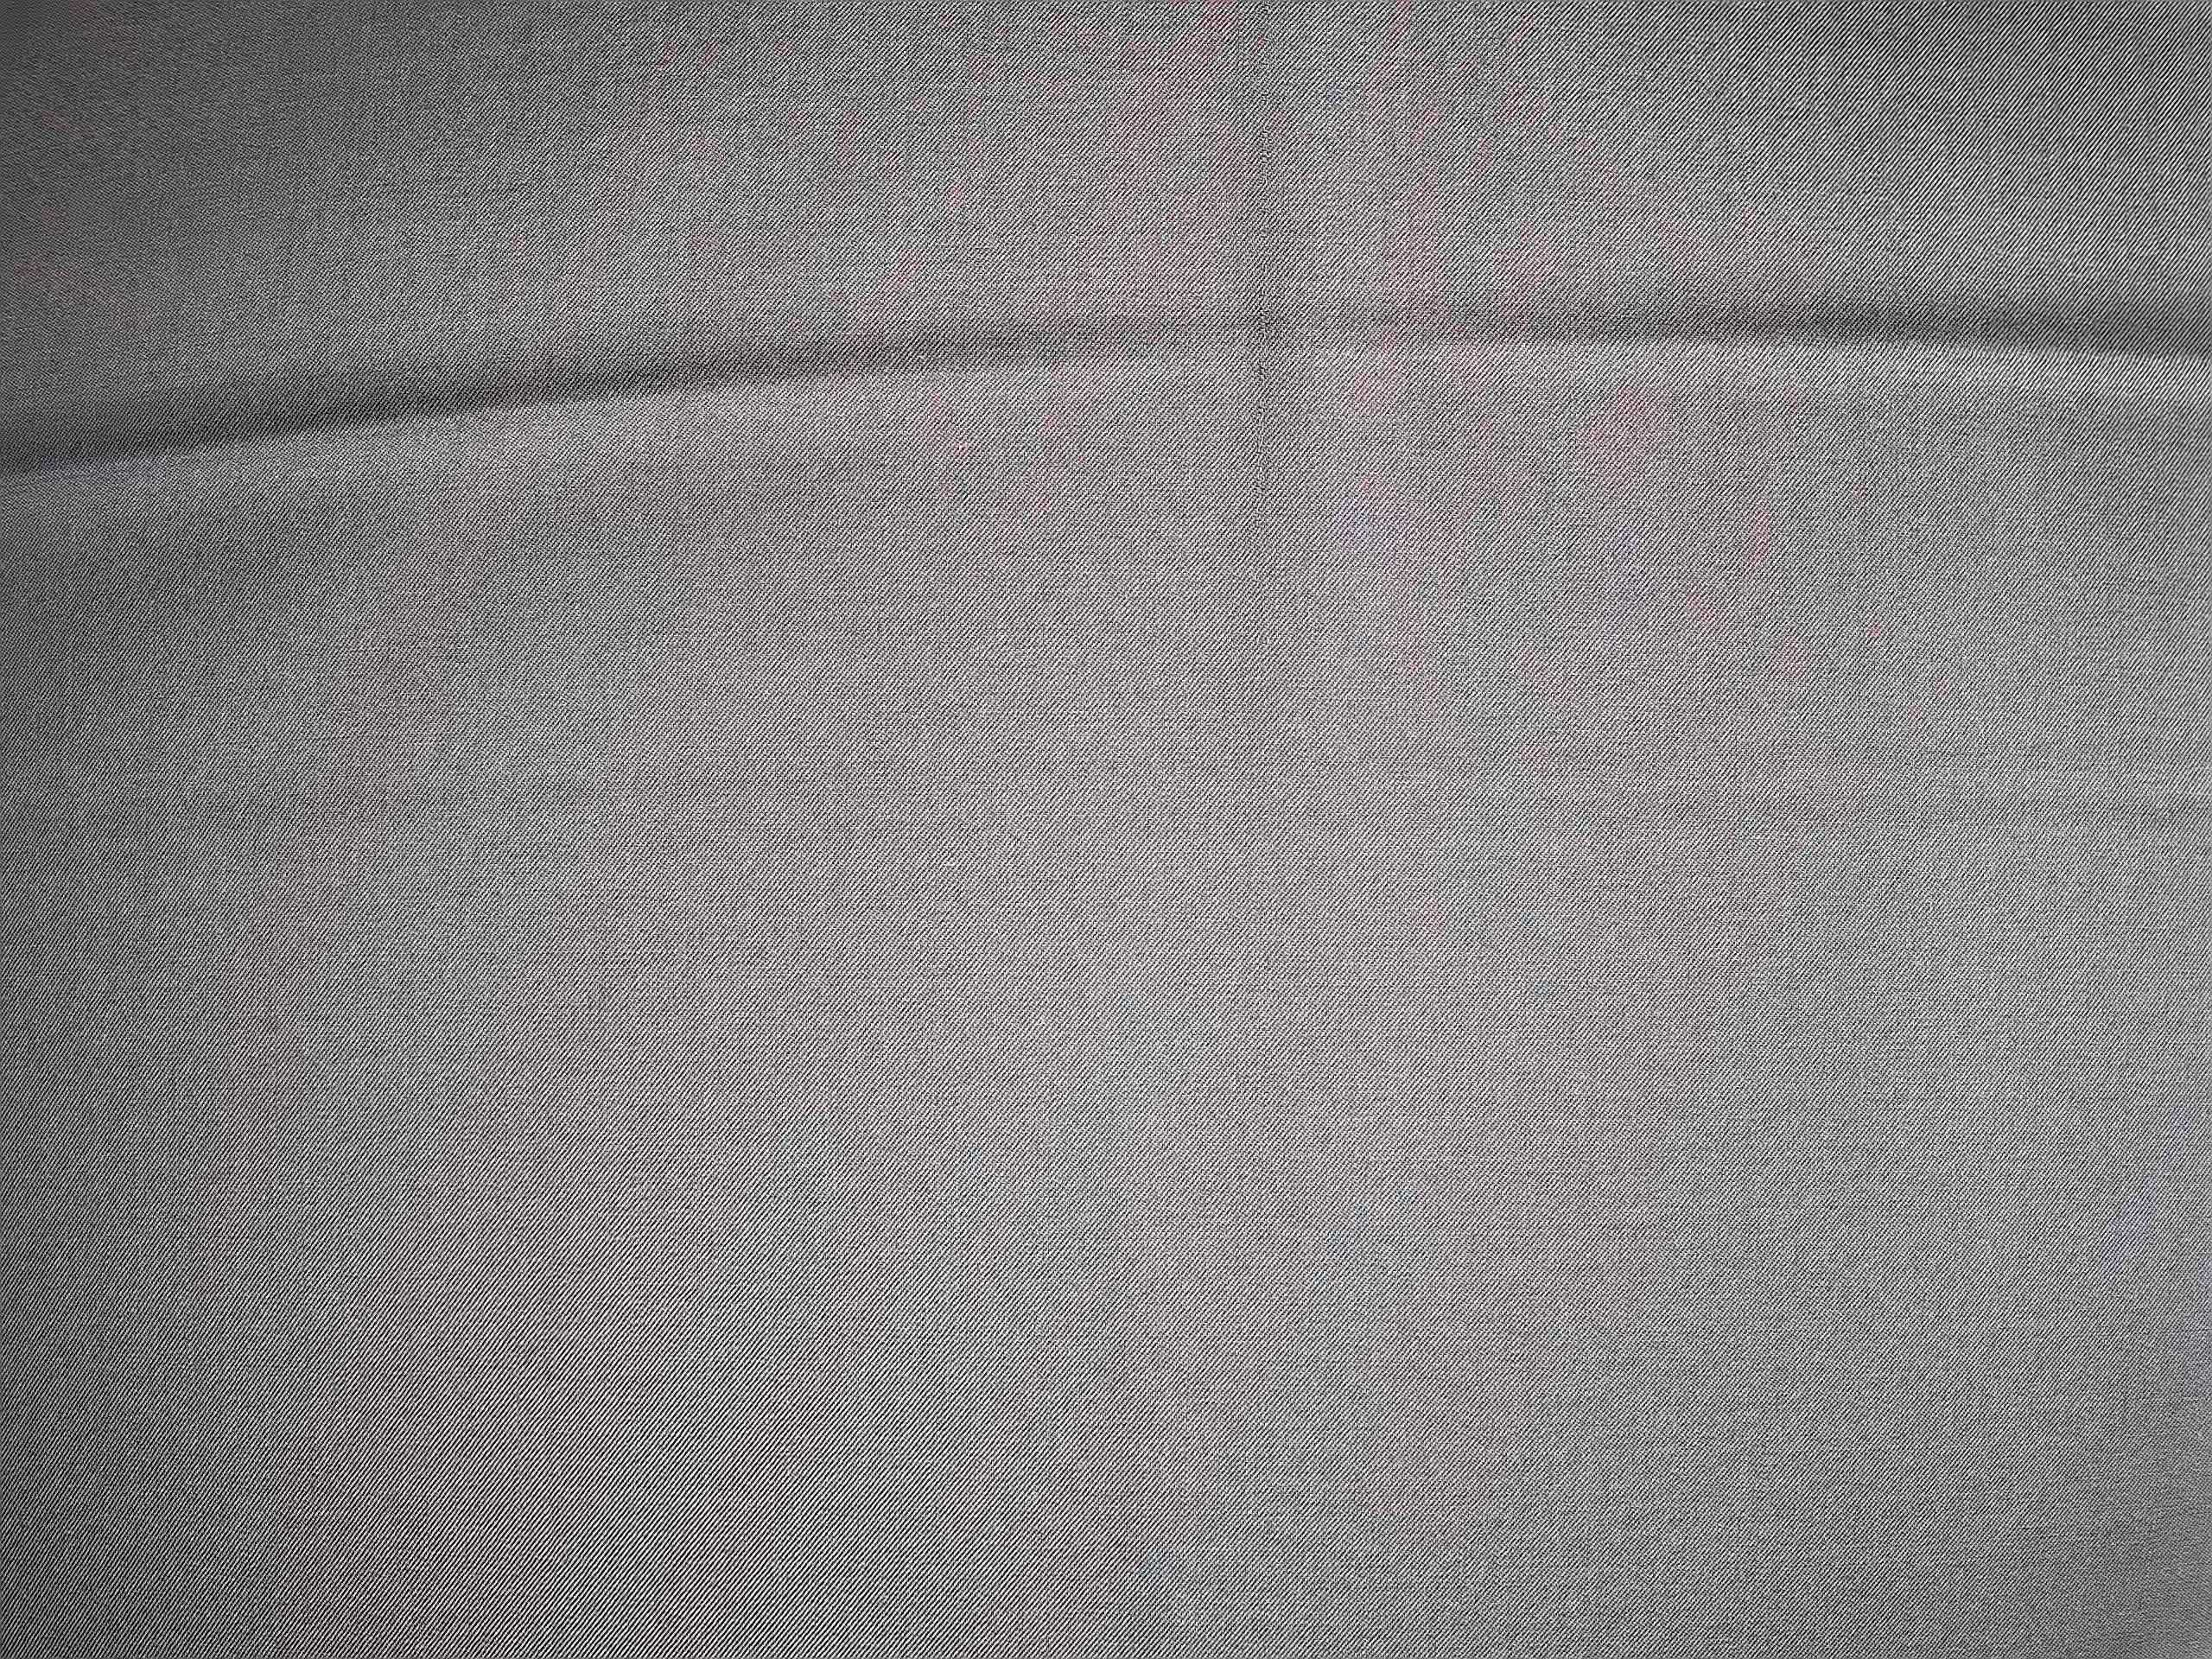jumps: (1217, 35, 1315, 598)
